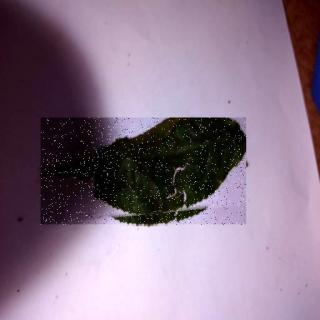Bird Eye Spot: (42, 119, 247, 227)
